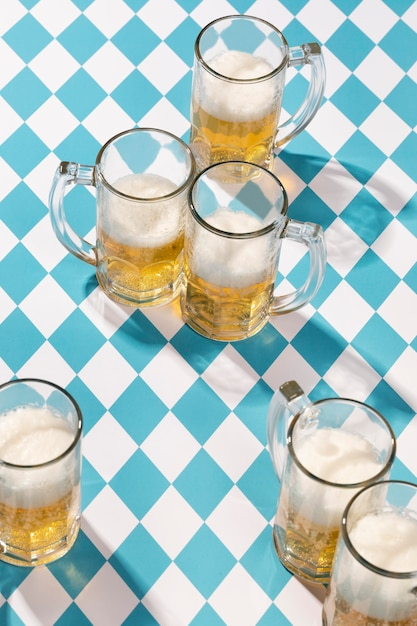alcohol: (267, 379, 400, 590), (50, 117, 196, 307), (183, 159, 326, 346), (194, 12, 329, 177), (0, 376, 81, 567), (331, 476, 417, 626)
